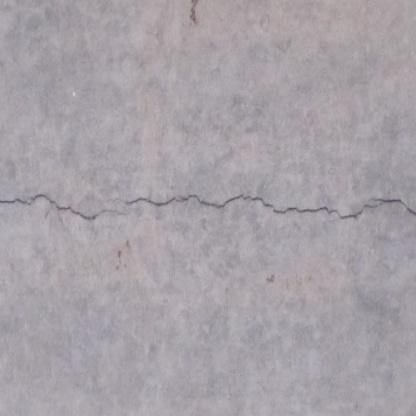Cracks: (0, 192, 416, 231)
